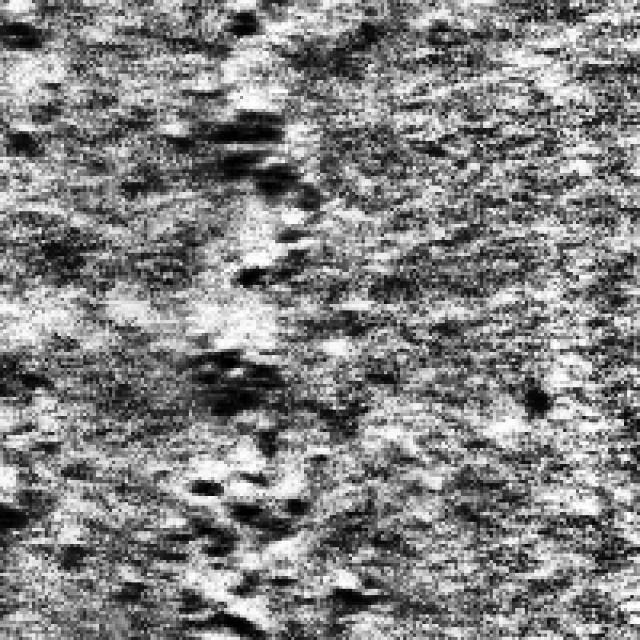Crazing: (102, 326, 346, 634), (150, 51, 314, 288)
